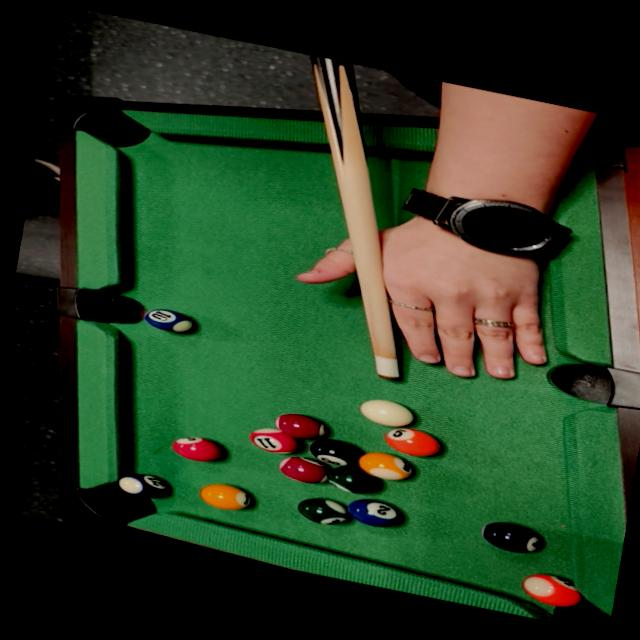cue ball: (353, 391, 420, 432)
other: (514, 566, 587, 612), (475, 515, 550, 559), (334, 491, 410, 534), (377, 422, 452, 463), (349, 444, 422, 486), (302, 430, 370, 470), (271, 448, 335, 490), (320, 459, 387, 499), (109, 465, 175, 505), (240, 419, 306, 459), (194, 476, 256, 516), (292, 492, 355, 531), (271, 407, 335, 445), (142, 301, 204, 339), (171, 429, 231, 468)
